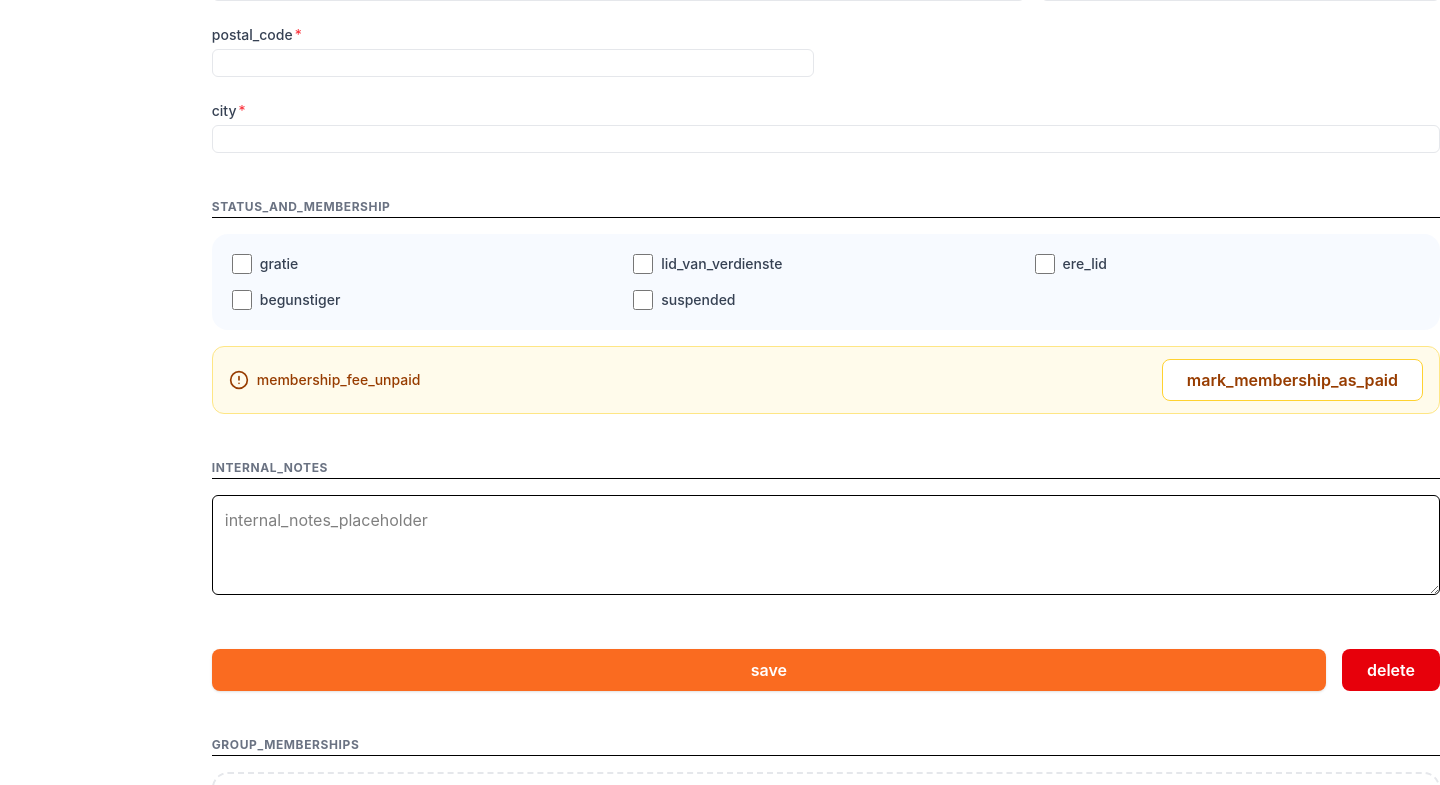
Test: EditMemberPage › opens the mark-membership-as-paid modal and confirms it
This screenshot has width=1440, height=785.
(page scrolled)
What coordinates should you click on to do the following:
click the button "mark_membership_as_paid"
I would click on:
 (1292, 380)
Its box is [1162,359,1423,401].
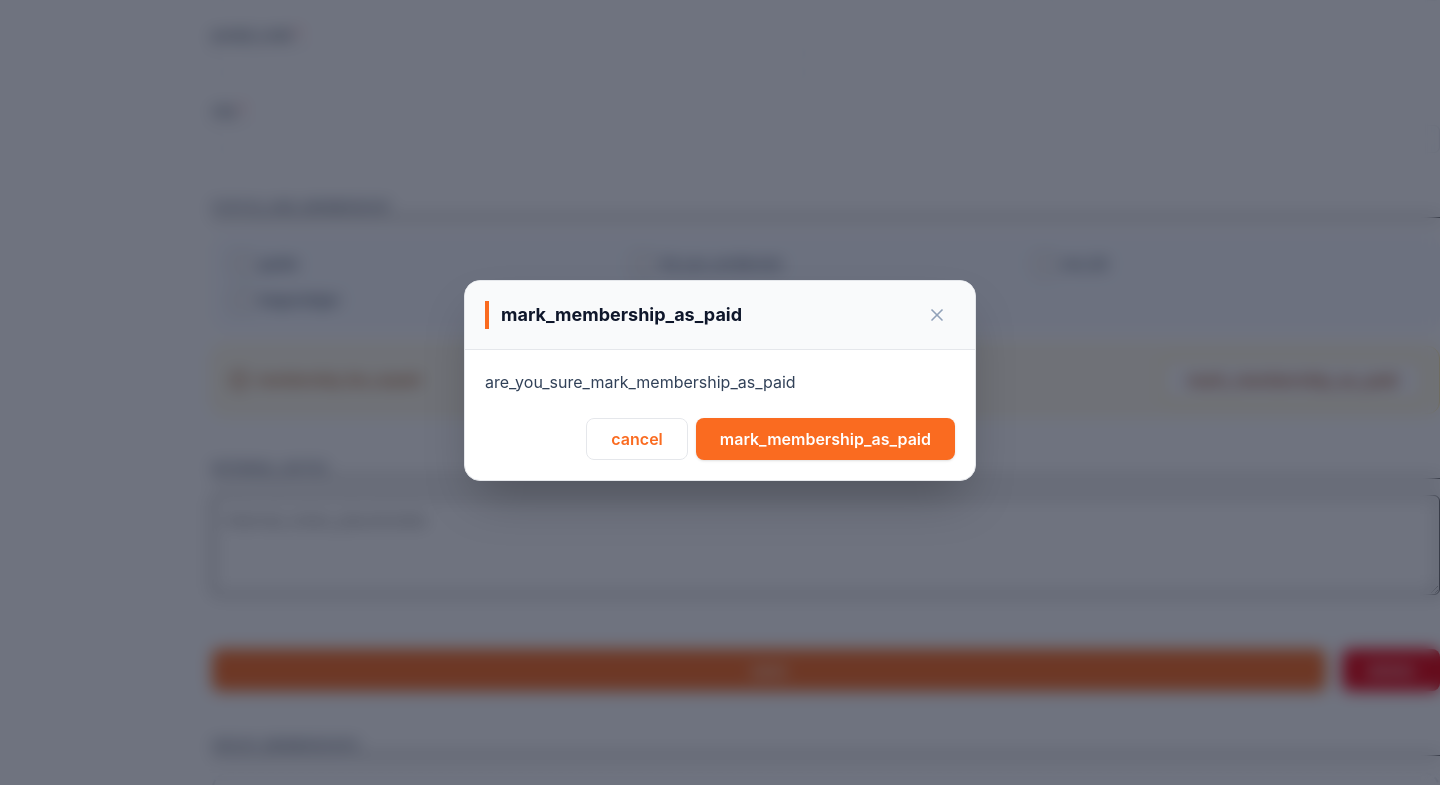
Result: the text "are_you_sure_mark_membership_as_paid" is shown at [485,372,796,392]
What coordinates should you click on to do the following:
click the button "mark_membership_as_paid"
I would click on:
 (825, 438)
Its box is [696,418,955,460].
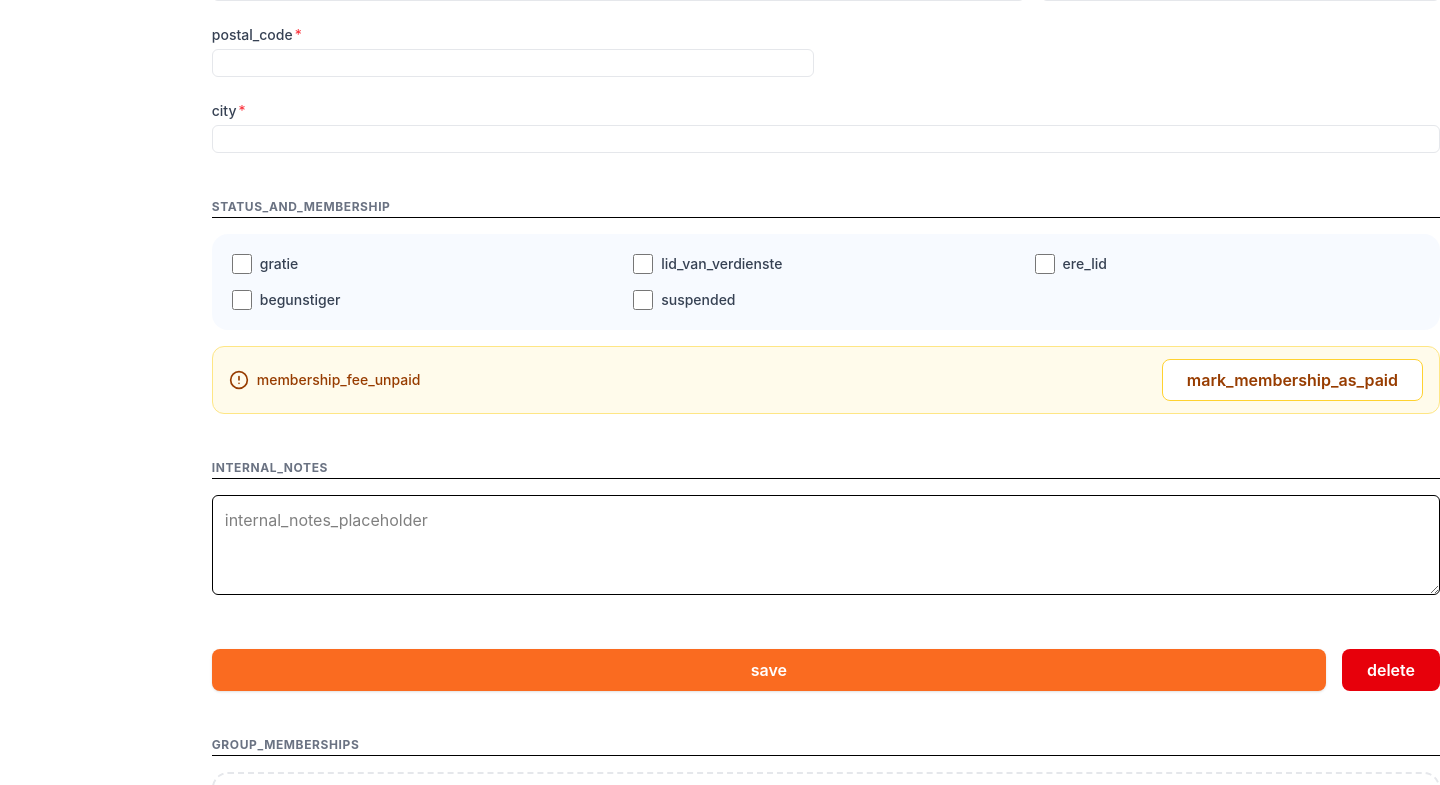
Result: the text "are_you_sure_mark_membership_as_paid" is gone
